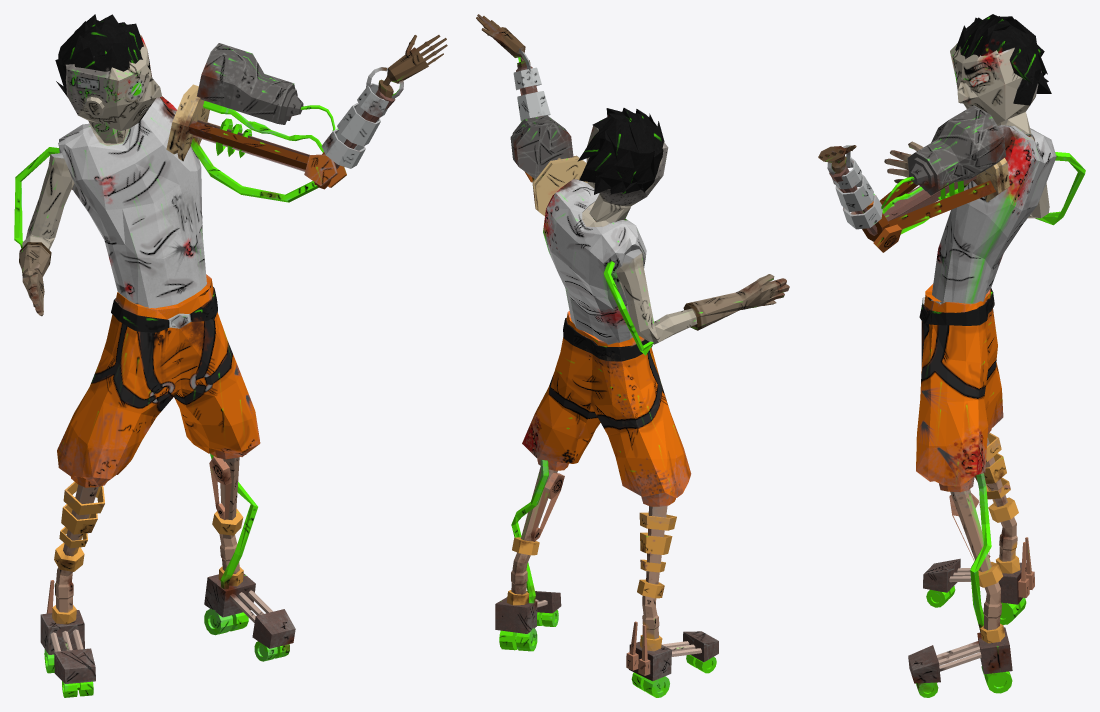
The model's file is CyborgFINALAnimation_000059.obj.
The picture shows the model from 3 angles, left to right: view 1: azimuth 30°, elevation 25°; view 2: azimuth 150°, elevation 25°; view 3: azimuth 270°, elevation 25°; orthographic projection. The views are drawn at different scales.
Parts seen in each view (by area): view 1: CyborgMesh_Cube.002; view 2: CyborgMesh_Cube.002; view 3: CyborgMesh_Cube.002.
Part boxes in pixels (left/top/right/bottom): CyborgMesh_Cube.002: left=14, top=14, right=447, bottom=697; CyborgMesh_Cube.002: left=476, top=14, right=789, bottom=697; CyborgMesh_Cube.002: left=818, top=14, right=1085, bottom=697.
Size of the model in its own units: 5.9 by 9.54 by 3.74.
